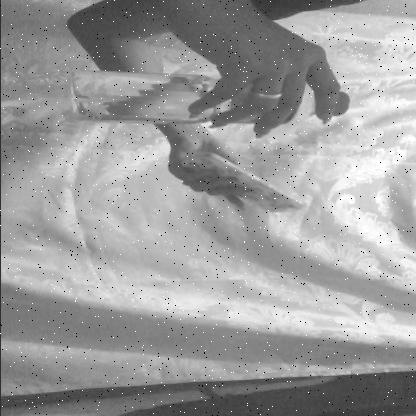Plastic Bottle: (35, 55, 375, 160)
